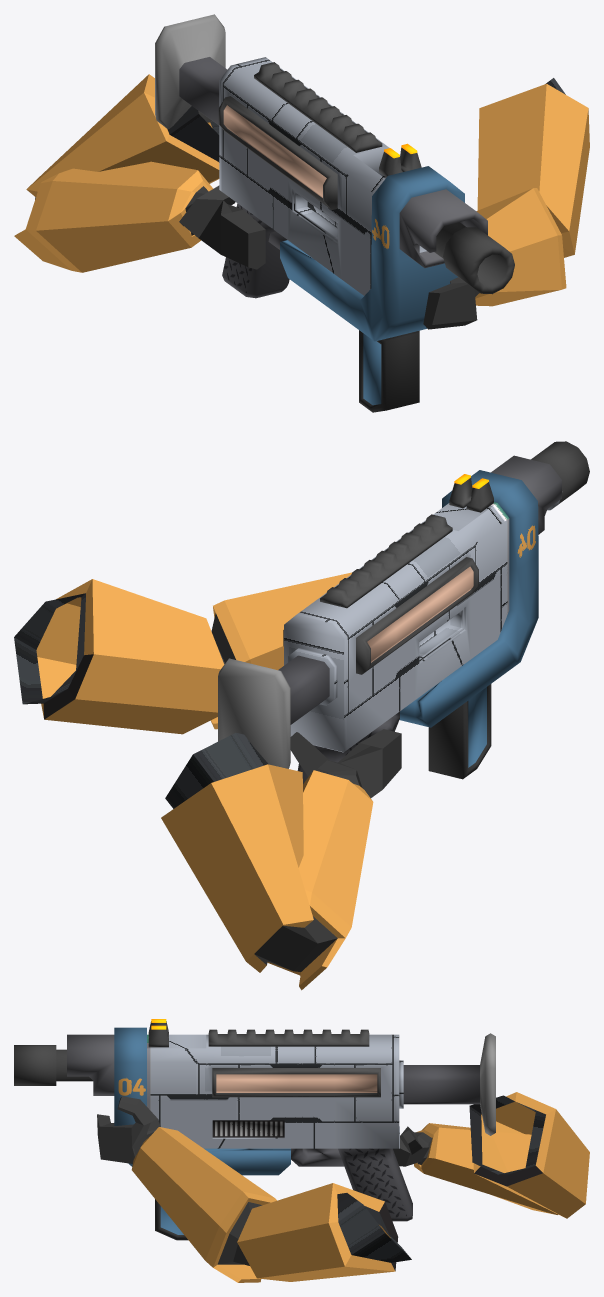
The model's file is Senjata.glb.
3 views of the same model, one above another, from view 1: azimuth 30°, elevation 25°; view 2: azimuth 150°, elevation 25°; view 3: azimuth 270°, elevation 25° (orthographic). The views are drawn at different scales.
Parts seen in each view (by area): view 1: SMG.001, Body.001; view 2: Body.001, SMG.001; view 3: SMG.001, Body.001.
Part boxes in pixels (x1,y1,x2,y2): SMG.001: (155, 14, 514, 412); Body.001: (14, 74, 589, 329); Body.001: (14, 572, 401, 990); SMG.001: (218, 441, 589, 783); SMG.001: (14, 1019, 495, 1240); Body.001: (97, 1092, 589, 1282).
Size of the model in its own units: 0.7476 by 0.4613 by 1.09.
Materials: 1 (1 with a texture image).
